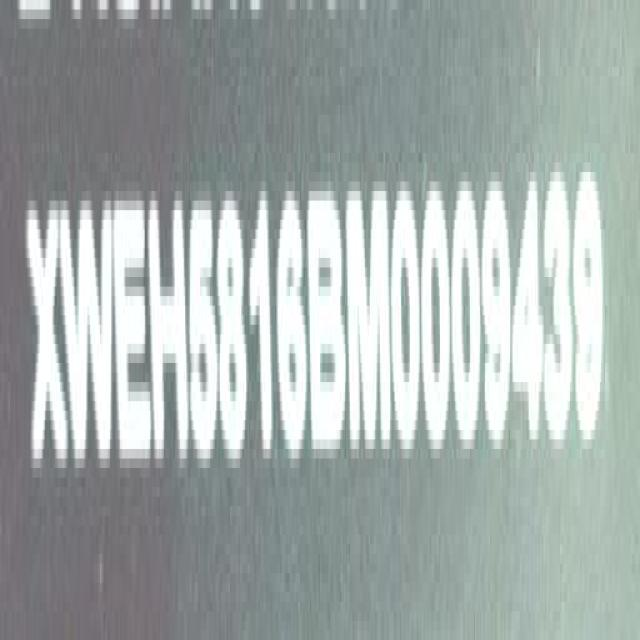0: (419, 166, 451, 488), (451, 159, 482, 471), (390, 177, 419, 478)
1: (246, 184, 278, 492)
3: (542, 170, 574, 456)
4: (513, 188, 543, 435)
5: (186, 188, 218, 467)
6: (276, 198, 308, 457)
8: (214, 188, 248, 467)
9: (574, 163, 603, 453), (482, 173, 511, 460)
B: (304, 180, 347, 467)
E: (111, 181, 153, 474)
H: (146, 184, 190, 471)
M: (344, 184, 393, 446)
W: (59, 188, 115, 478)
X: (26, 177, 70, 485)
